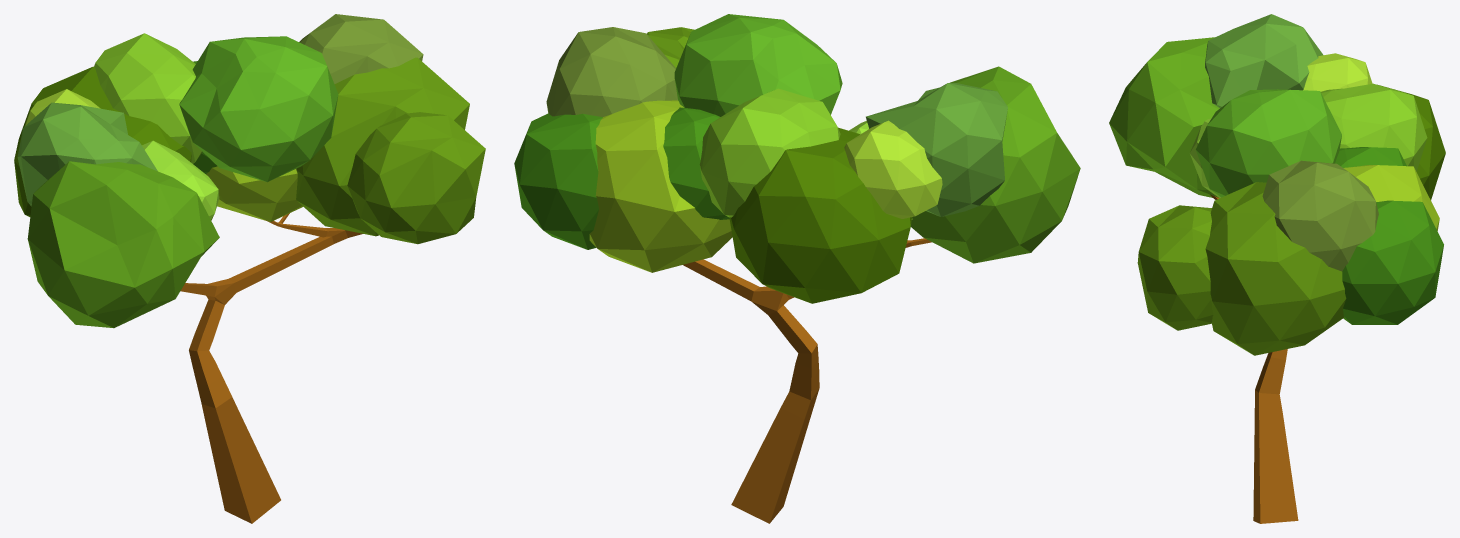
The model's file is tree.fbx.
The picture shows the model from 3 angles, left to right: view 1: azimuth 30°, elevation 25°; view 2: azimuth 150°, elevation 25°; view 3: azimuth 270°, elevation 25°; orthographic projection. The views are drawn at different scales.
Parts seen in each view (by area): view 1: Icosphere.003, Cube; view 2: Icosphere.003, Cube; view 3: Icosphere.003, Cube.
Part boxes in pixels (bbox=[...]): Icosphere.003: bbox=[14, 14, 485, 328]; Cube: bbox=[180, 213, 362, 523]; Icosphere.003: bbox=[514, 14, 1080, 303]; Cube: bbox=[683, 238, 931, 523]; Icosphere.003: bbox=[1109, 14, 1445, 355]; Cube: bbox=[1210, 194, 1298, 523].
Bounding box in the file's own units: 614 × 622 × 435.
